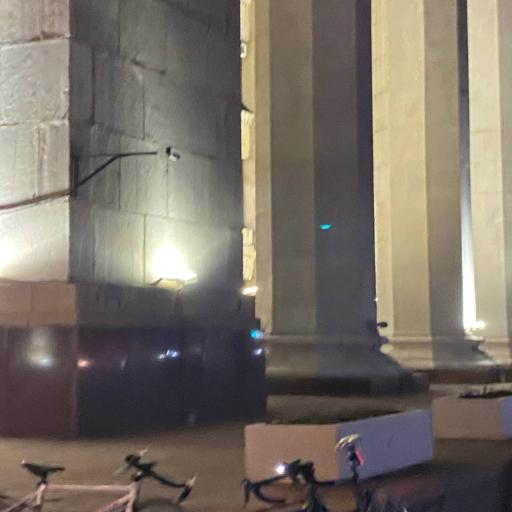bag: (242, 434, 407, 512), (2, 450, 196, 512)
